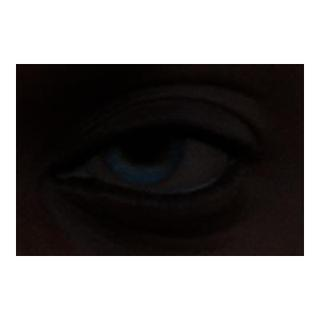pupil: (125, 124, 162, 161)
